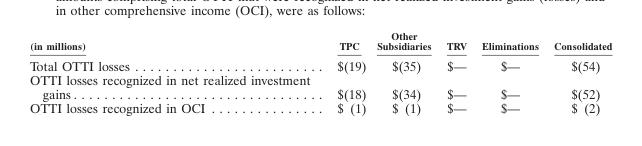table: (29, 29, 611, 115)
table column: (29, 29, 323, 115), (473, 29, 545, 115), (370, 29, 438, 115), (545, 29, 611, 115), (323, 29, 370, 115), (438, 29, 473, 115)
table column header: (29, 29, 611, 54)
table row: (29, 72, 611, 100), (29, 29, 611, 54), (29, 54, 611, 72), (29, 100, 611, 115)
